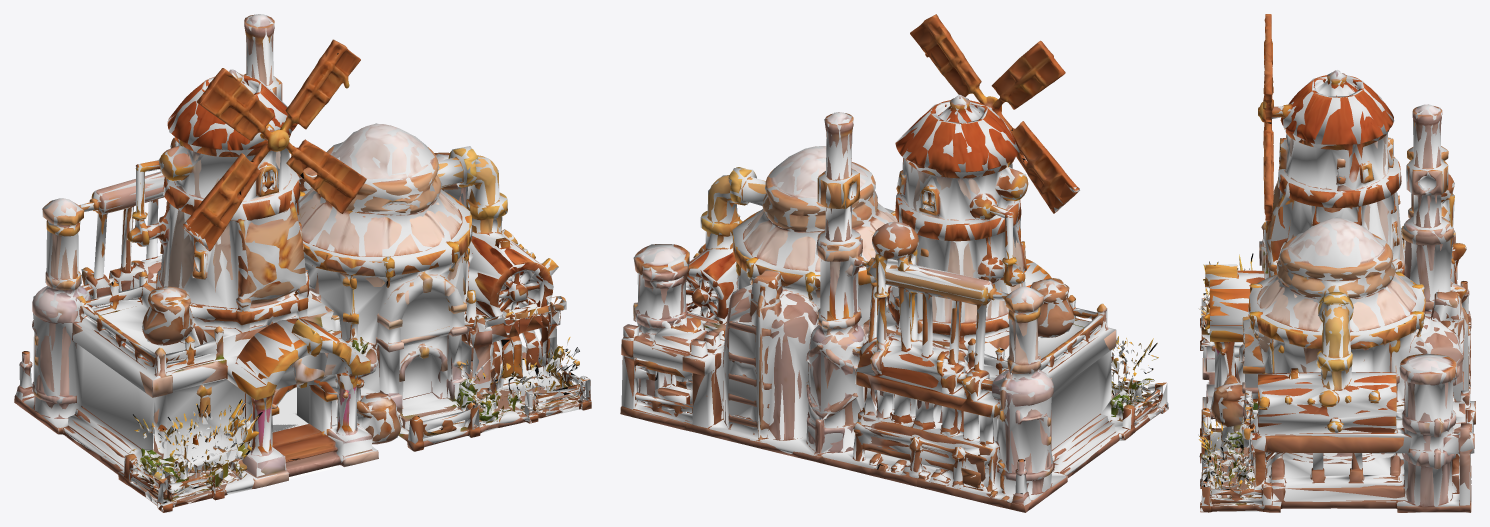
The model's file is HOB_BLD_WheatMill.fbx.
The picture shows the model from 3 angles, left to right: view 1: azimuth 30°, elevation 25°; view 2: azimuth 150°, elevation 25°; view 3: azimuth 270°, elevation 25°; orthographic projection. The views are drawn at different scales.
Parts seen in each view (by area): view 1: COL_HOB_BLD_WheatMill_Shell, HOB_BLD_WheatMill, HOB_BLD_WheatMill_Anim_Blades, COL_HOB_BLD_WheatMill_Room; view 2: COL_HOB_BLD_WheatMill_Shell, HOB_BLD_WheatMill, HOB_BLD_WheatMill_Anim_Blades; view 3: HOB_BLD_WheatMill, COL_HOB_BLD_WheatMill_Shell, HOB_BLD_WheatMill_Anim_Blades.
Boxes of the visible parts, x1,y1,x2,y2 form: COL_HOB_BLD_WheatMill_Shell: (15,14,591,512); HOB_BLD_WheatMill: (14,14,591,512); HOB_BLD_WheatMill_Anim_Blades: (186,39,366,244); COL_HOB_BLD_WheatMill_Room: (272,385,337,479); COL_HOB_BLD_WheatMill_Shell: (621,94,1168,505); HOB_BLD_WheatMill: (620,95,1168,512); HOB_BLD_WheatMill_Anim_Blades: (910,14,1077,209); HOB_BLD_WheatMill: (1199,70,1475,512); COL_HOB_BLD_WheatMill_Shell: (1198,70,1475,512); HOB_BLD_WheatMill_Anim_Blades: (1258,14,1273,220).
Size of the model in its own units: 5572 by 4768 by 3392.
